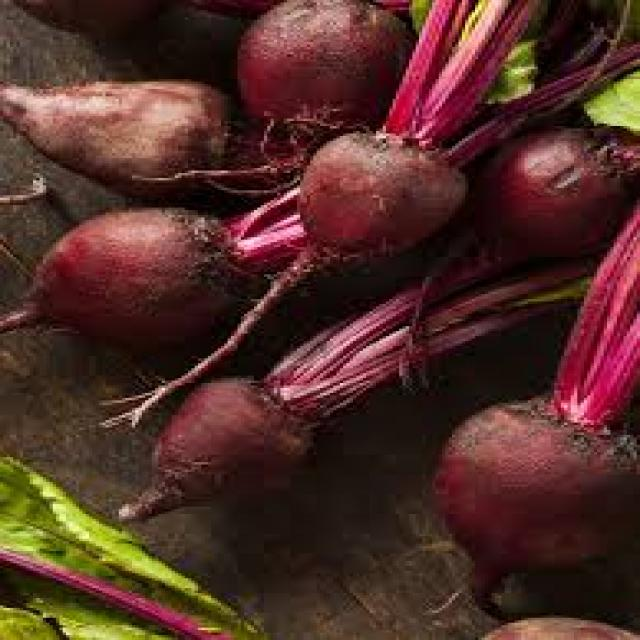organic waste: (258, 245, 620, 415), (0, 454, 267, 638), (429, 396, 637, 616), (376, 0, 637, 158), (0, 203, 244, 346), (426, 118, 636, 276), (109, 371, 317, 519), (0, 79, 238, 193), (277, 123, 459, 267), (227, 0, 412, 138), (541, 185, 637, 422), (4, 0, 412, 35), (224, 176, 324, 270), (406, 0, 551, 47), (475, 30, 544, 109), (478, 613, 637, 637), (577, 69, 637, 131), (0, 602, 59, 637)
